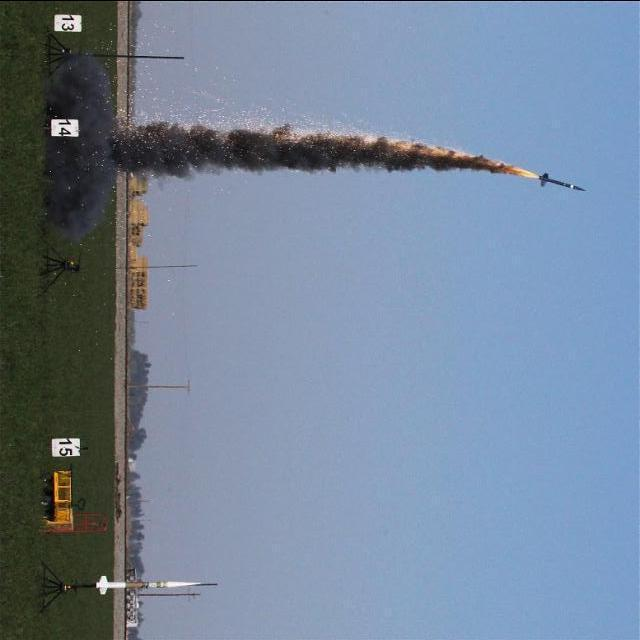missile: (531, 164, 590, 204)
